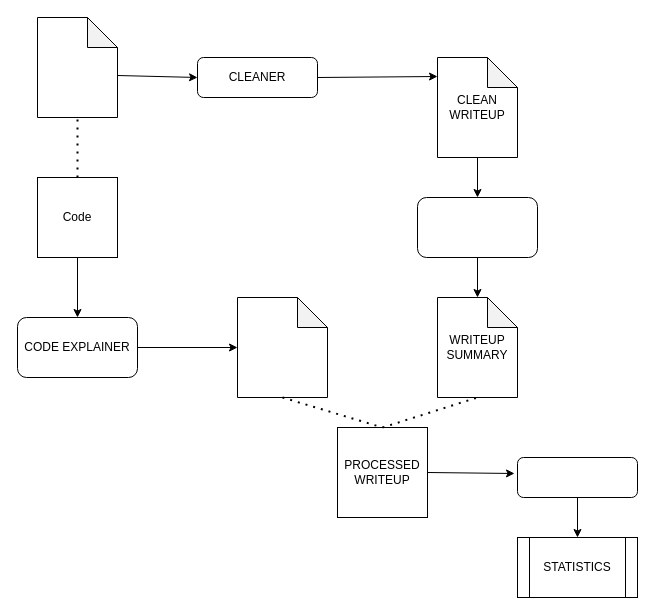
Some shapes in this 655 by 615 pixel diagram are drawn without their labels. Here are the shapes that lost their labels. From the top down, the centre of each, then its label:
At (x=77, y=67): "Writeup".
At (x=477, y=227): "SUMMARISER".
At (x=282, y=347): "CODE EXPLANATION".
At (x=577, y=477): "NER ANALYSIS".
